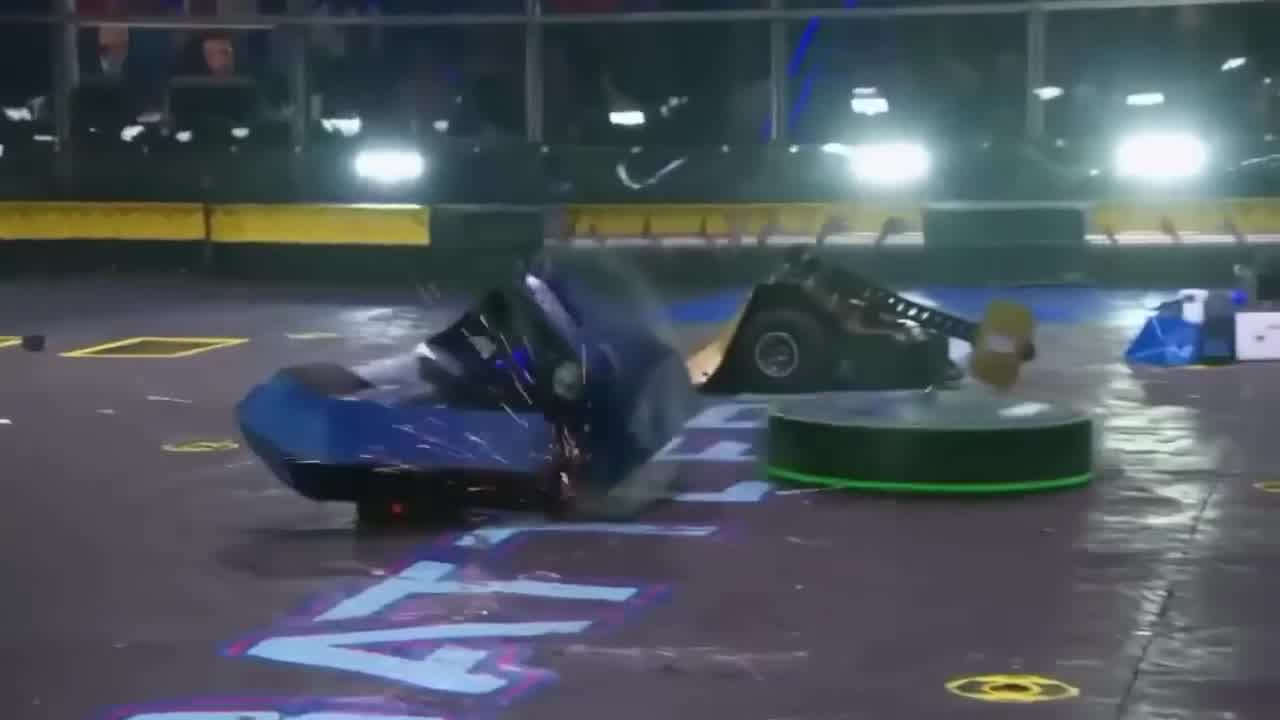combatbot: (231, 257, 709, 537), (690, 240, 1035, 397), (767, 388, 1097, 501), (1124, 261, 1280, 375)
